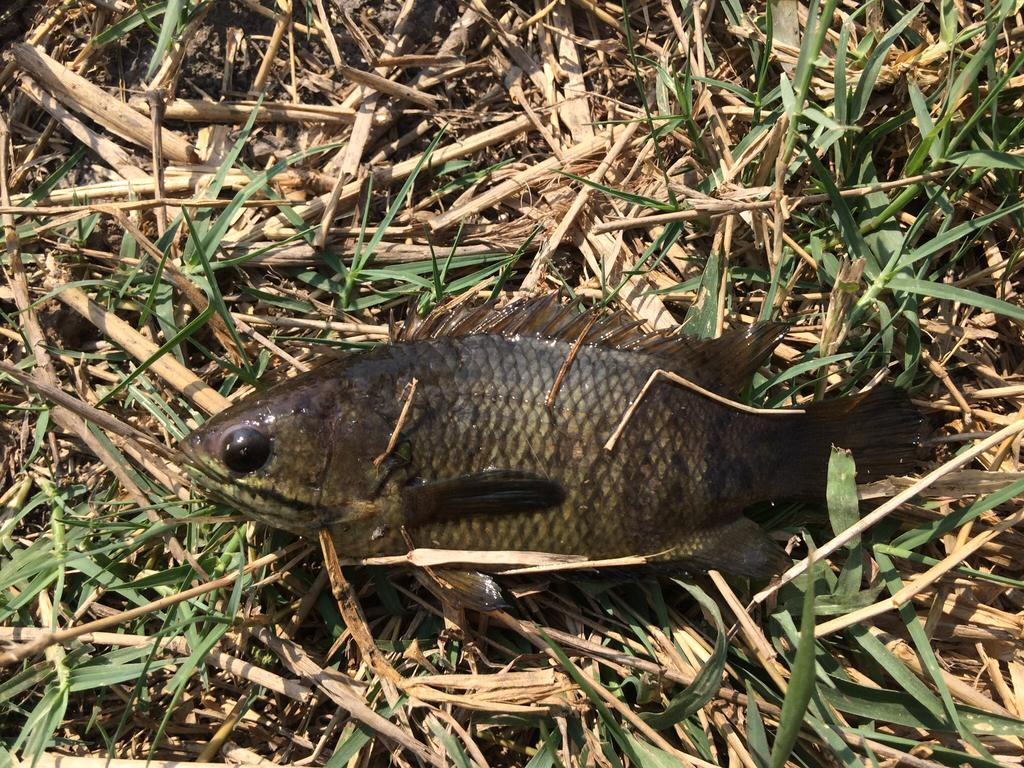Climbing Perch: (161, 296, 936, 620)
